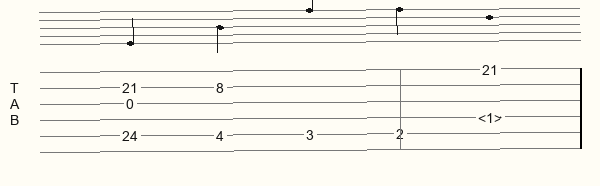0: (126, 95, 138, 109)
2: (396, 127, 408, 141)
21: (122, 79, 142, 93), (482, 63, 502, 77)
24: (122, 127, 142, 141)
3: (306, 127, 318, 141)
4: (216, 127, 228, 141)
8: (216, 79, 228, 93)
harmonic: (478, 111, 506, 125)
